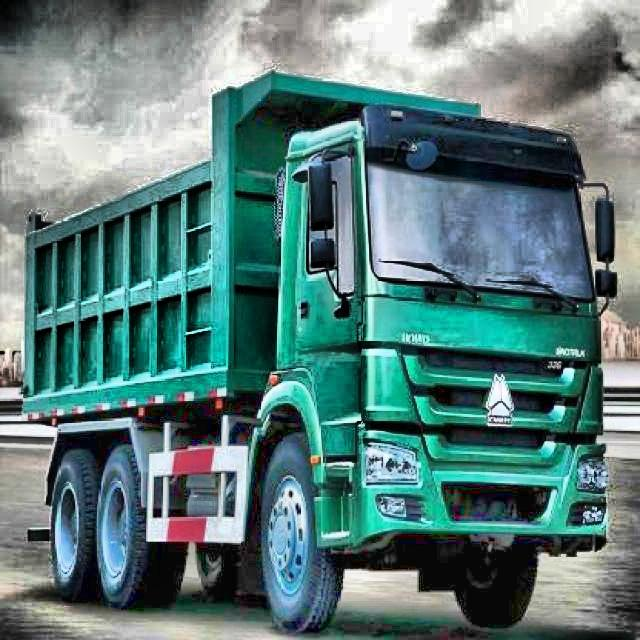dump_truck: (21, 63, 627, 629)
